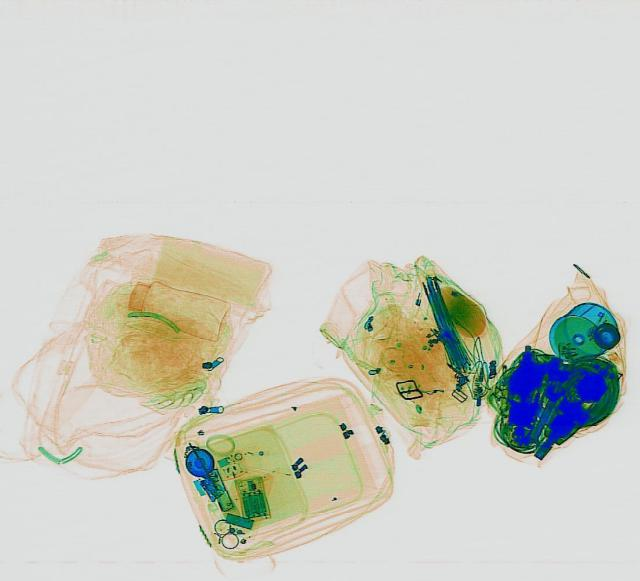Wrench: (517, 381, 569, 450)
